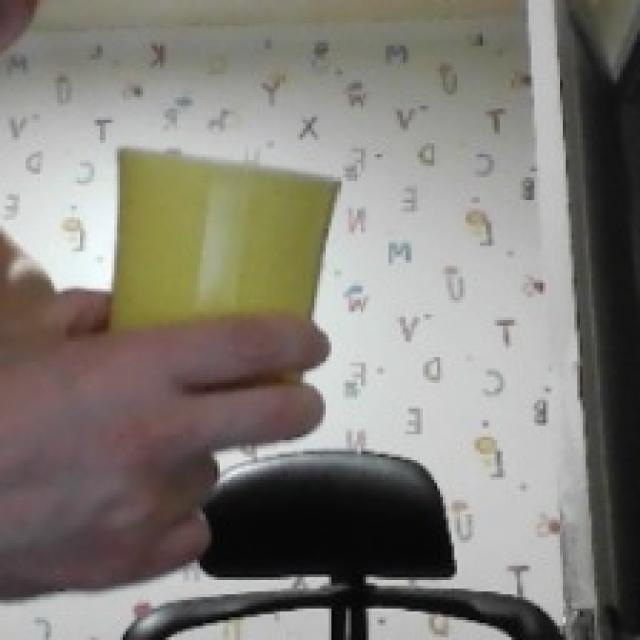cup: (114, 151, 337, 323)
